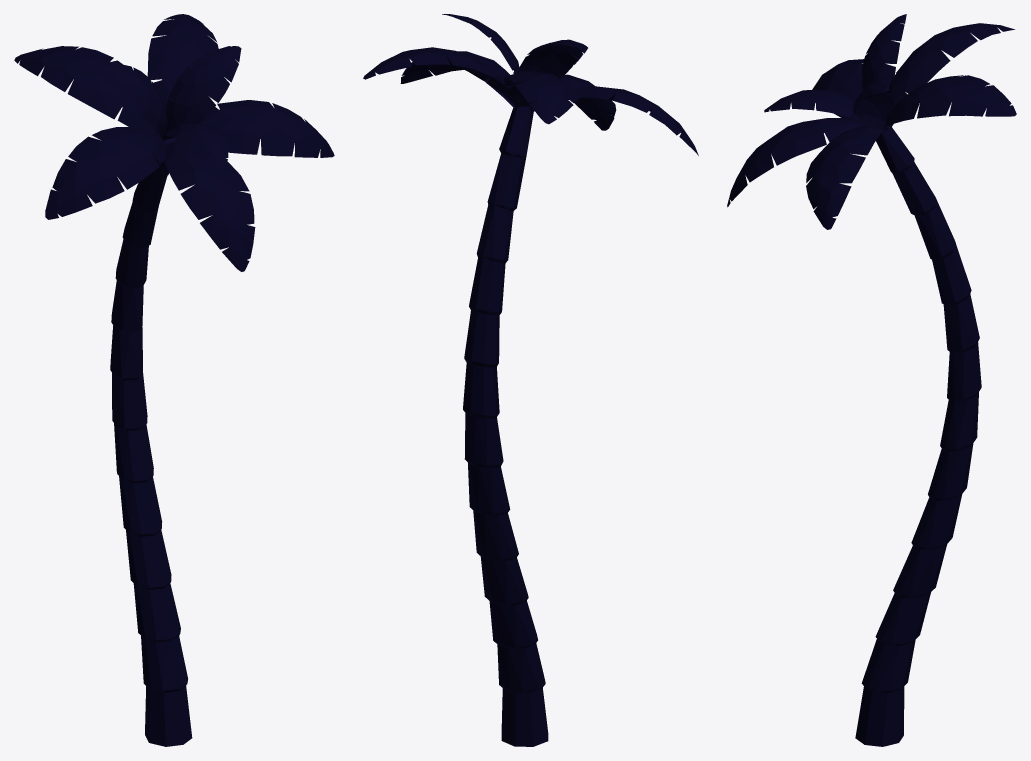
Rendered from palm.gltf.
3 views of the same model, side by side, from view 1: azimuth 30°, elevation 25°; view 2: azimuth 150°, elevation 25°; view 3: azimuth 270°, elevation 25° (orthographic). The views are drawn at different scales.
Visible parts, largest first — view 1: Sphere; view 2: Sphere; view 3: Sphere.
Part boxes in pixels (<box>): Sphere: <box>14,14,334,746</box>; Sphere: <box>363,14,698,746</box>; Sphere: <box>727,14,1016,746</box>.
Size of the model in its own units: 2.51 by 5.71 by 2.17.
